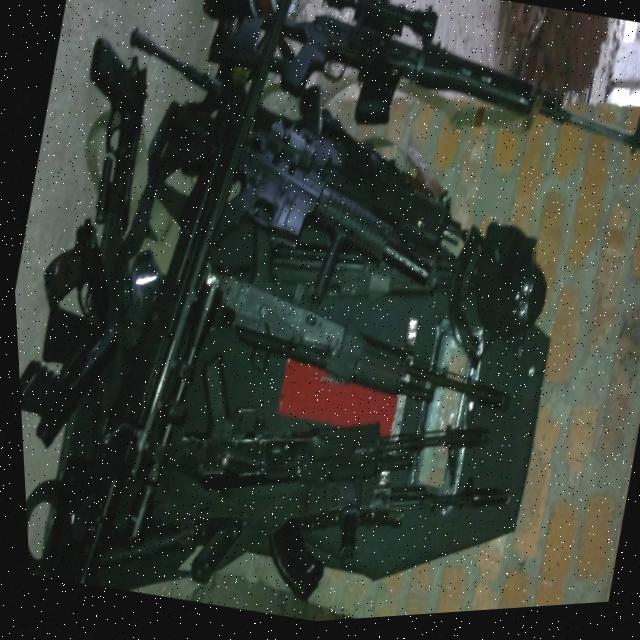firearm: (3, 0, 328, 611), (83, 399, 512, 637), (193, 0, 640, 214), (113, 83, 457, 346), (178, 200, 537, 441), (152, 331, 498, 552)
pistol: (50, 33, 166, 243), (12, 300, 126, 463), (27, 208, 124, 332)
